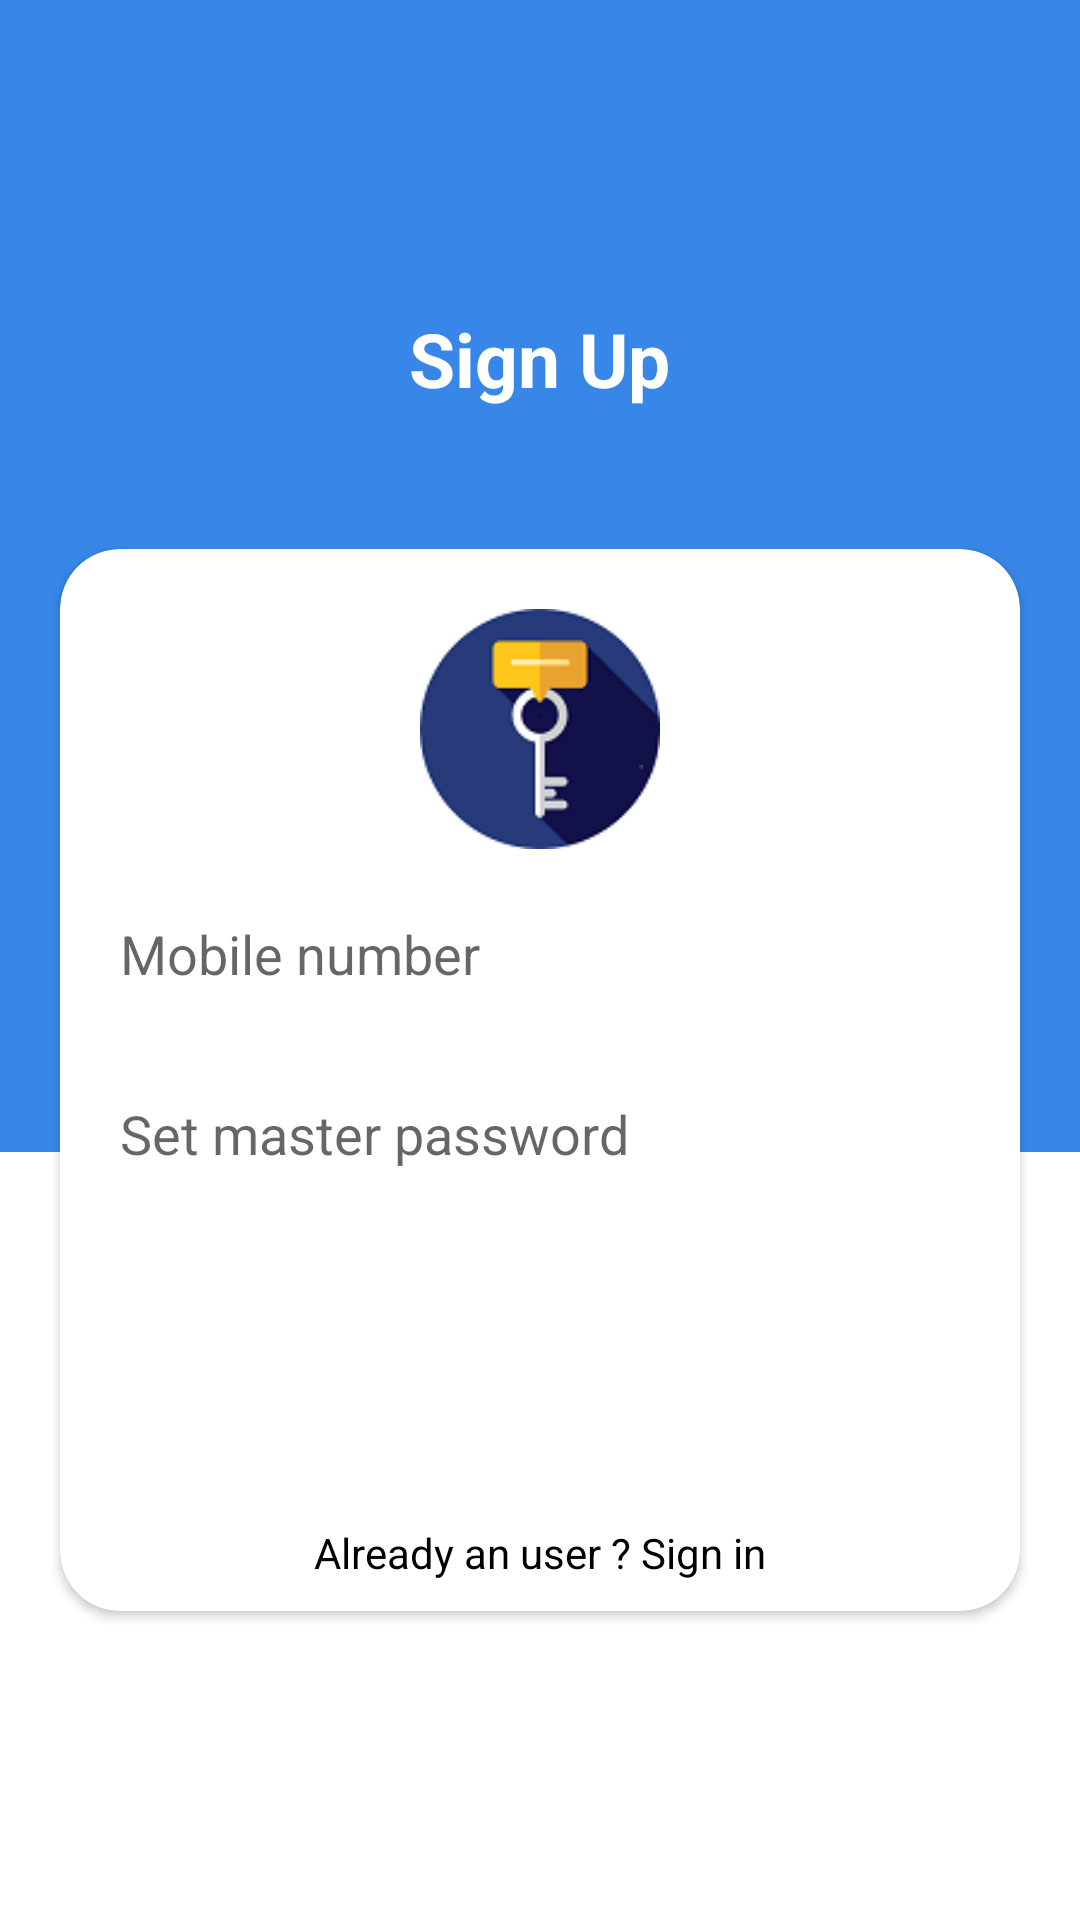

Locate icon controls on the screen. Image size 1080px×1920px, boxes as [x1=x1, y1=y1, x2=x2, y2=y2].
pass: [x1=420, y1=609, x2=660, y2=849]
